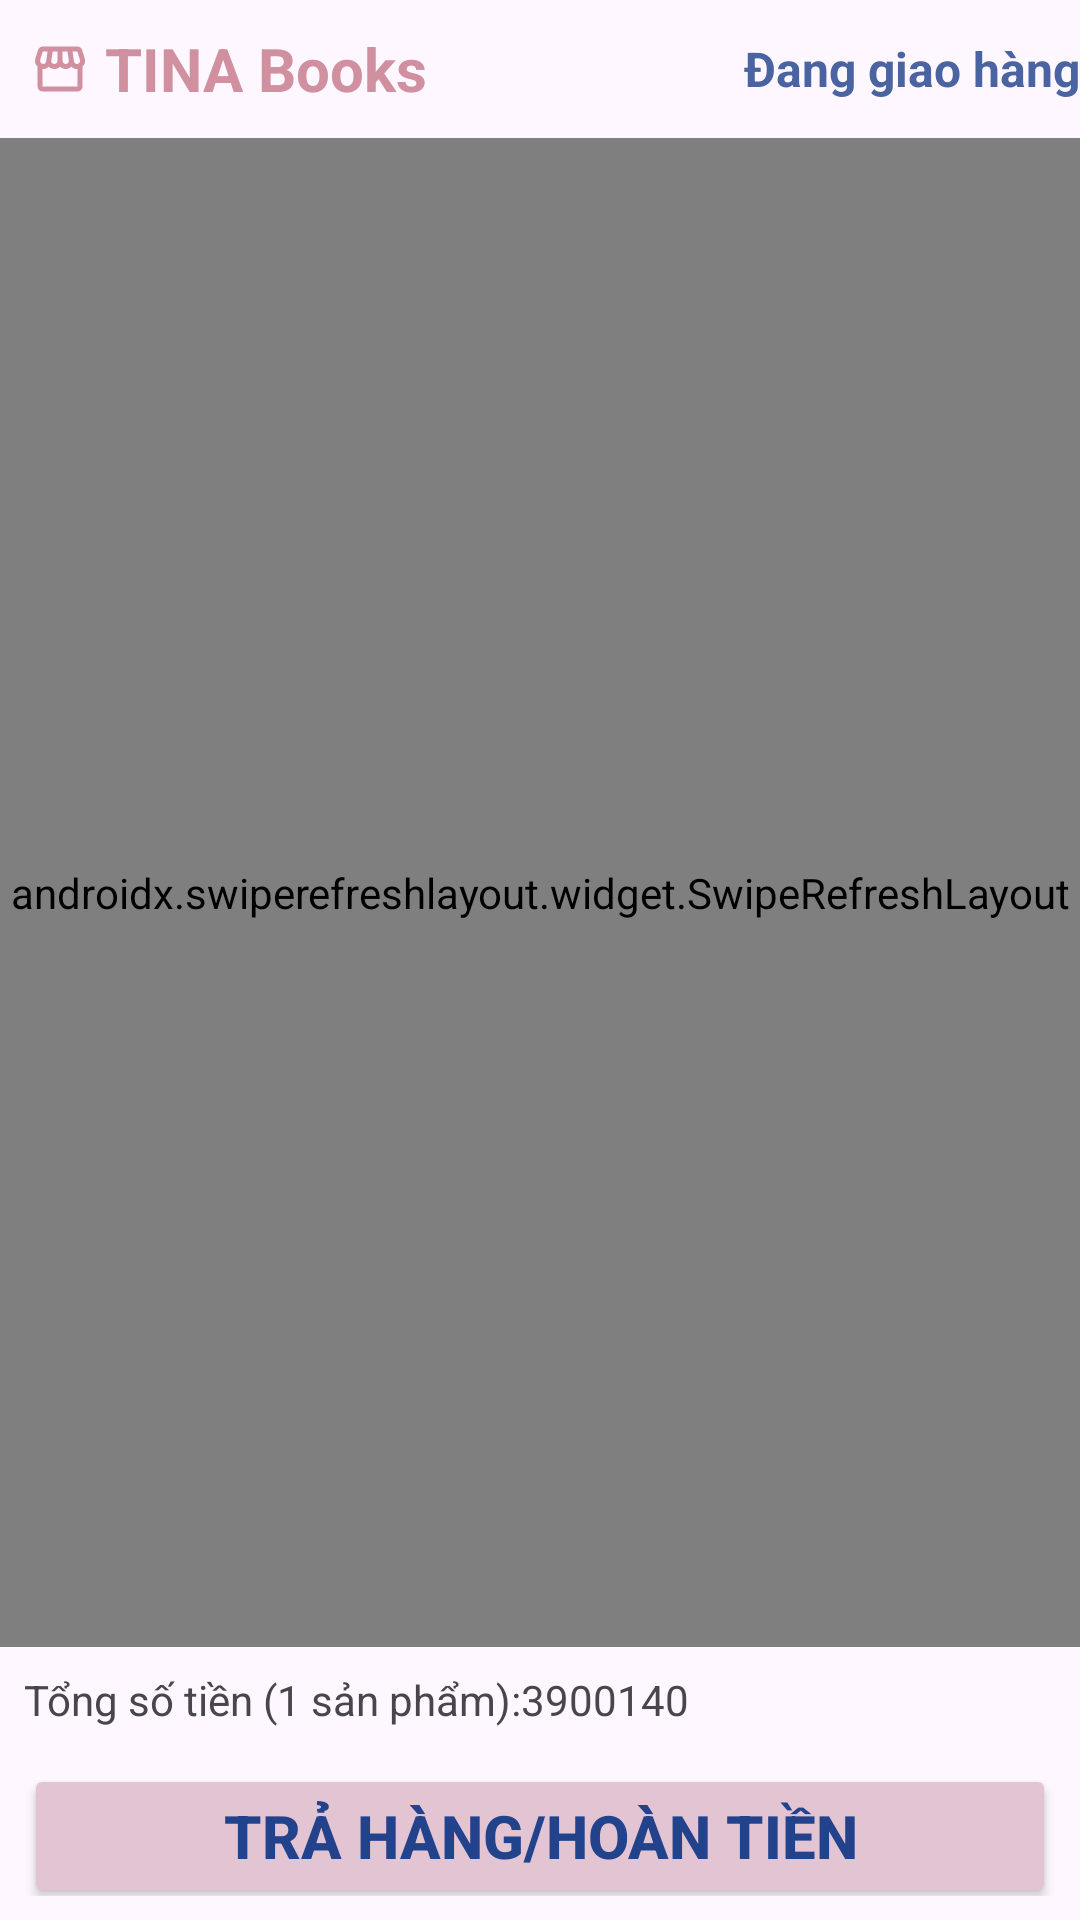

Locate icon controls on the screen. Image size 1080×1920, boxes as {"left": x1, "top": y1, "right": x2, "bottom": y2}.
store: {"left": 35, "top": 46, "right": 85, "bottom": 92}
